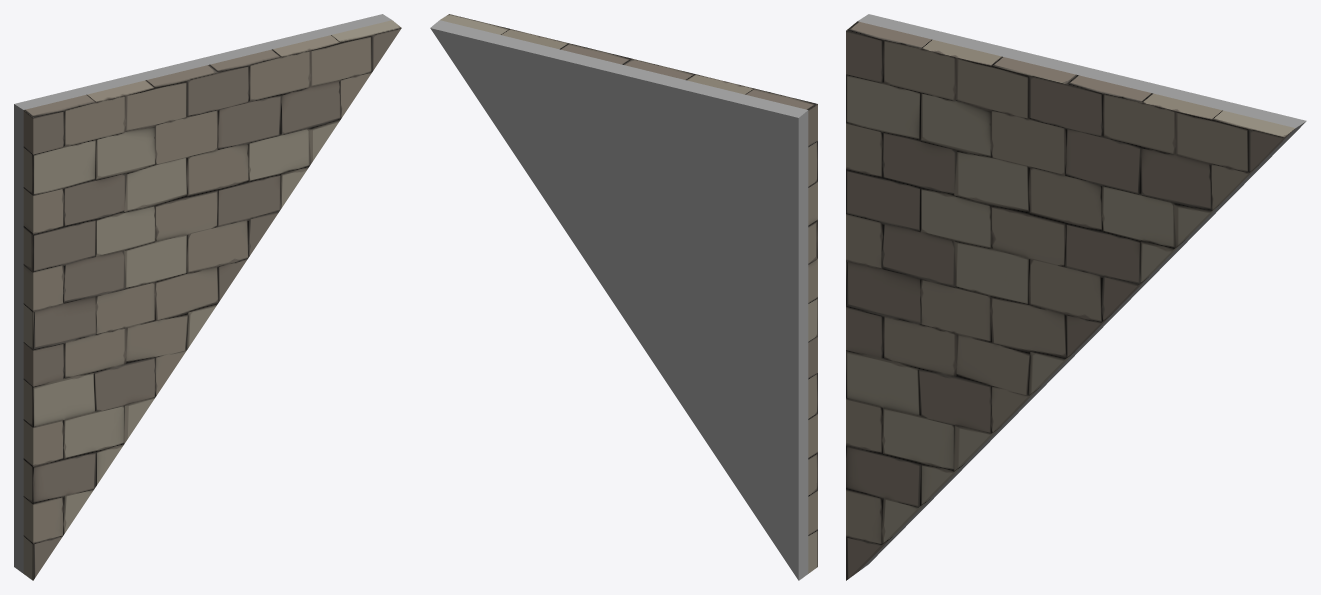
File: SM_Bld_Base_Wall_Angle_02.fbx
3 renders of one model, left to right at view 1: azimuth 30°, elevation 25°; view 2: azimuth 150°, elevation 25°; view 3: azimuth 330°, elevation 25°, orthographic. The views are drawn at different scales.
Parts seen in each view (by area): view 1: SM_Bld_Base_Wall_Angle_02; view 2: SM_Bld_Base_Wall_Angle_02; view 3: SM_Bld_Base_Wall_Angle_02.
Boxes of the visible parts, x1,y1,x2,y2 form: SM_Bld_Base_Wall_Angle_02: [14, 14, 401, 580]; SM_Bld_Base_Wall_Angle_02: [430, 14, 817, 580]; SM_Bld_Base_Wall_Angle_02: [846, 14, 1306, 580].
Size of the model in its own units: 250 by 301 by 22.5.
